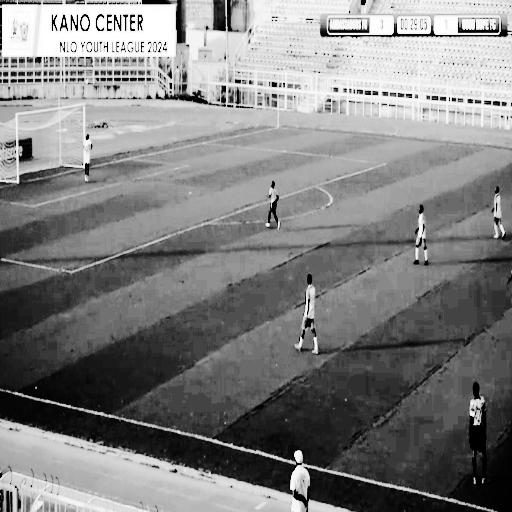ball: (84, 74, 92, 86)
keeper2: (80, 126, 95, 188)
team1: (462, 378, 495, 500), (266, 176, 288, 236)
team2: (292, 271, 325, 365), (412, 199, 434, 276), (484, 183, 511, 240)
